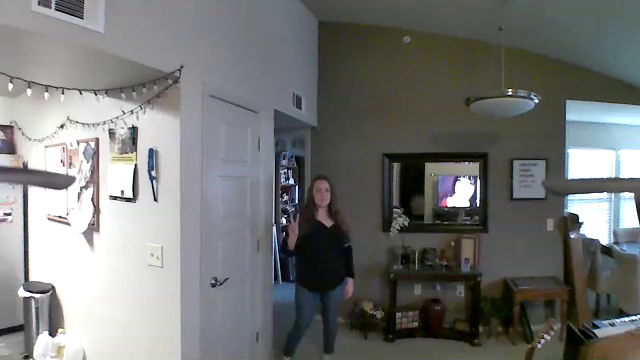peace: (281, 212, 305, 239)
